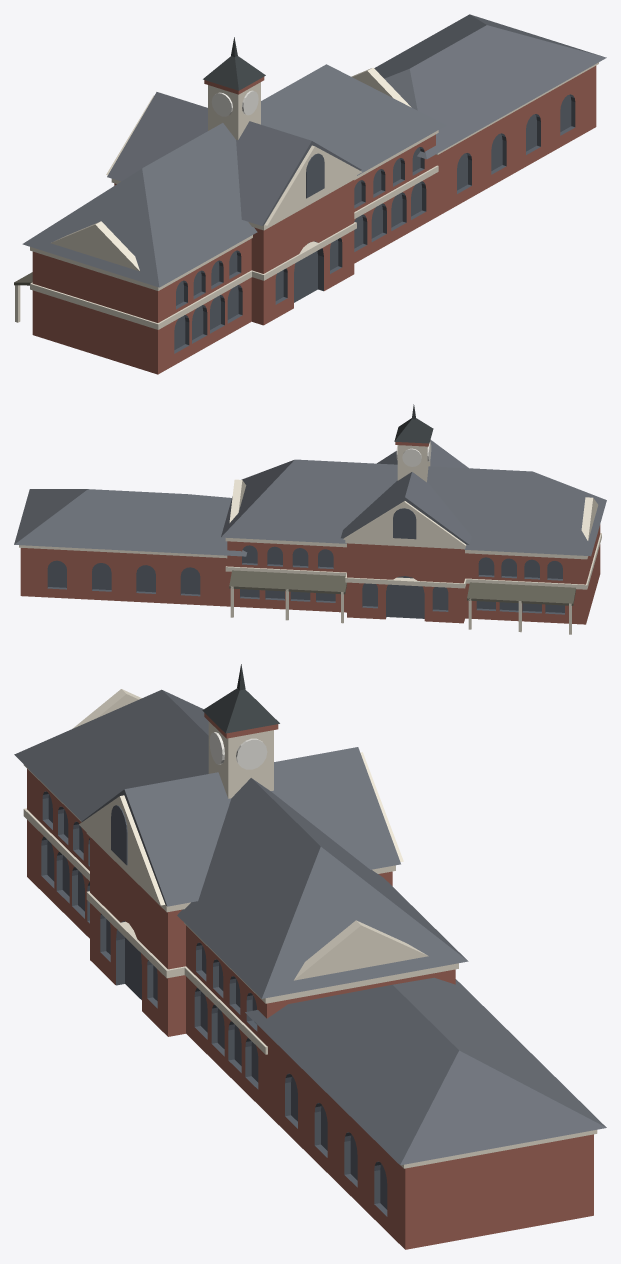
Rendered from station-old.glb.
3 renders of one model, top to bottom at view 1: azimuth 30°, elevation 25°; view 2: azimuth 150°, elevation 25°; view 3: azimuth 270°, elevation 25°, orthographic. The views are drawn at different scales.
Parts seen in each view (by area): view 1: station-old; view 2: station-old; view 3: station-old.
Boxes of the visible parts, bbox=[...] form: station-old: bbox=[14, 14, 606, 374]; station-old: bbox=[14, 404, 606, 634]; station-old: bbox=[14, 664, 606, 1249].
Size of the model in its own units: 59.79 by 21 by 35.83.
